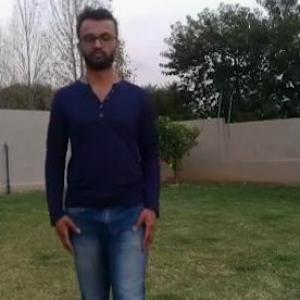follow: (57, 8, 152, 299)
